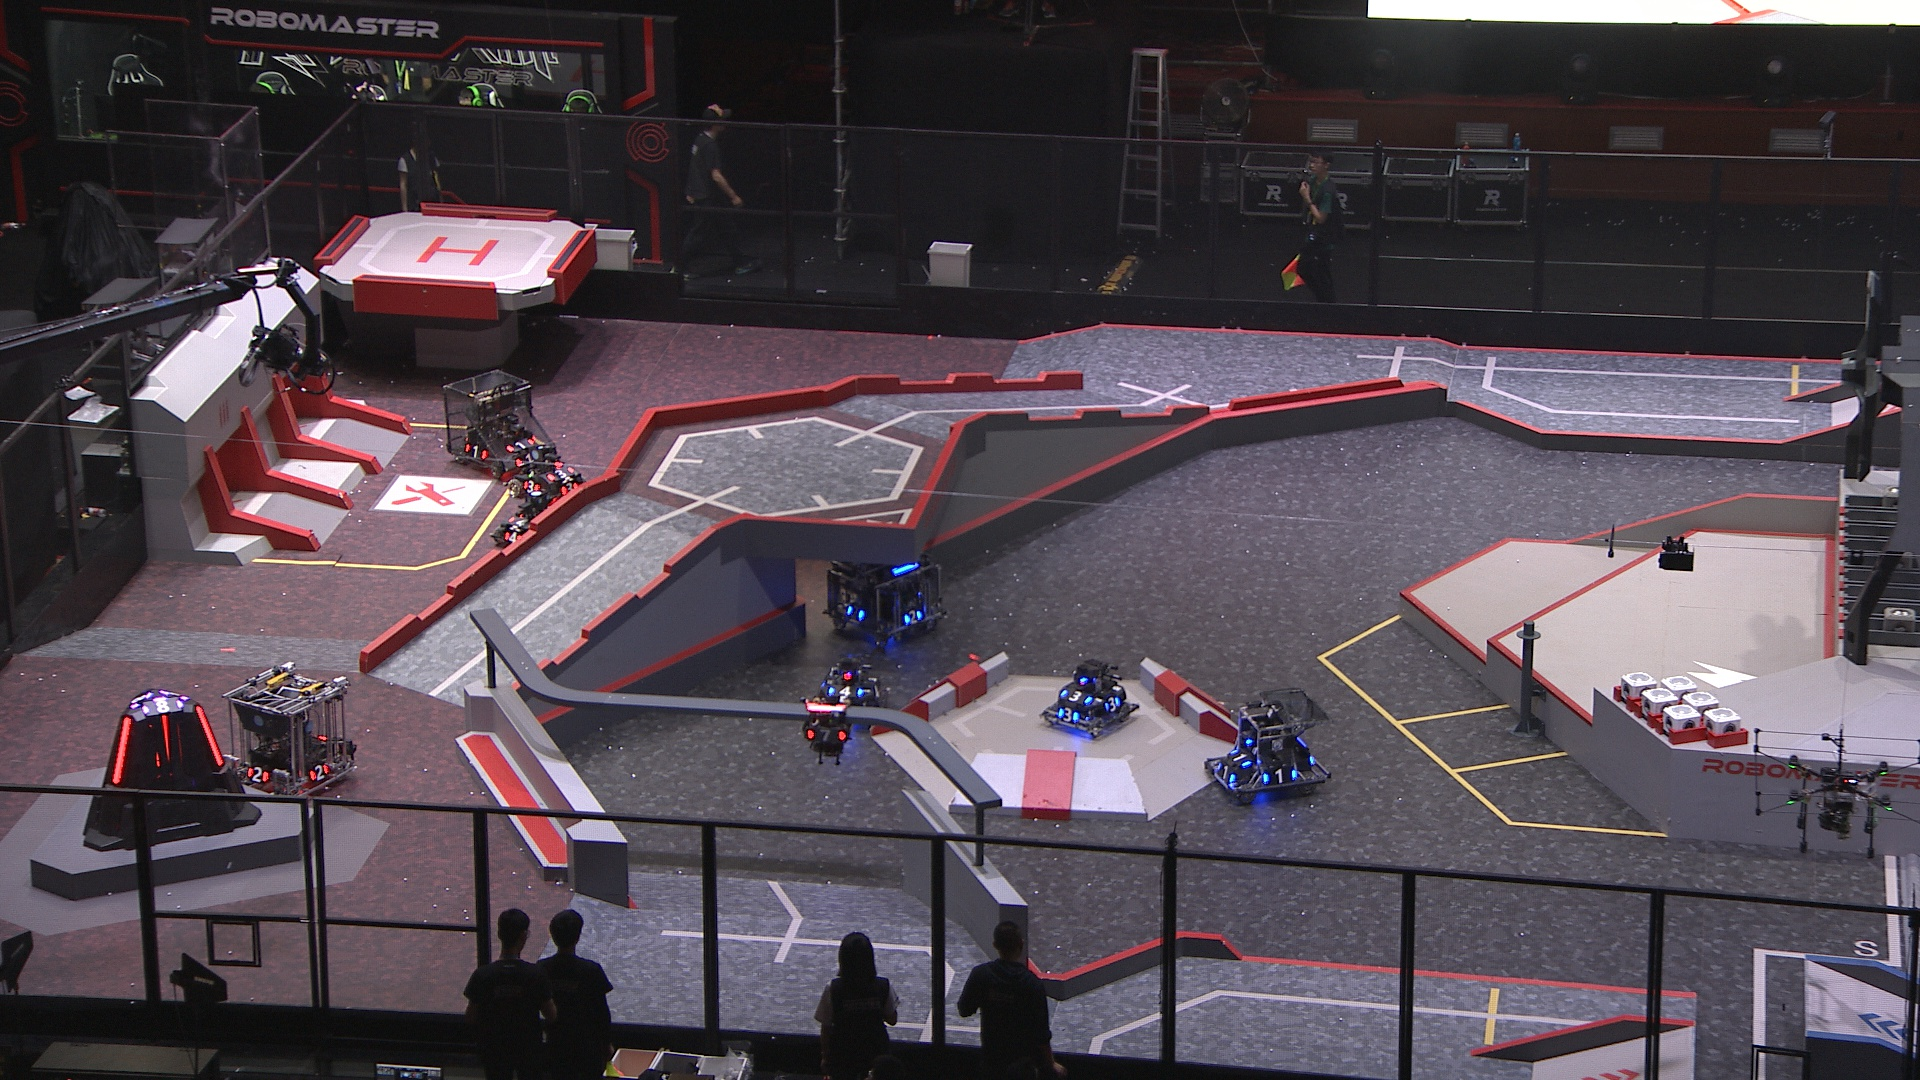armor: (193, 705, 224, 767), (109, 716, 131, 785), (806, 725, 845, 744), (1261, 766, 1296, 785), (1062, 688, 1095, 707), (1215, 764, 1238, 789), (160, 713, 171, 761), (306, 761, 332, 782), (505, 436, 535, 452), (1228, 746, 1250, 767), (829, 684, 865, 698), (501, 529, 526, 547), (463, 443, 489, 460), (902, 607, 924, 626), (514, 452, 545, 467), (244, 766, 268, 785), (1059, 707, 1081, 725), (845, 603, 866, 621), (520, 480, 539, 498), (547, 467, 574, 480), (1102, 695, 1124, 711), (558, 480, 580, 495), (869, 680, 882, 704), (514, 514, 531, 531)
base: (78, 687, 262, 853)
car: (223, 662, 357, 802), (1204, 688, 1332, 802), (822, 537, 944, 647), (442, 367, 556, 480), (1040, 655, 1143, 745), (814, 655, 893, 723), (514, 456, 593, 512), (491, 505, 556, 562)
ignore: (140, 698, 182, 716)
watcher: (795, 698, 852, 766)
